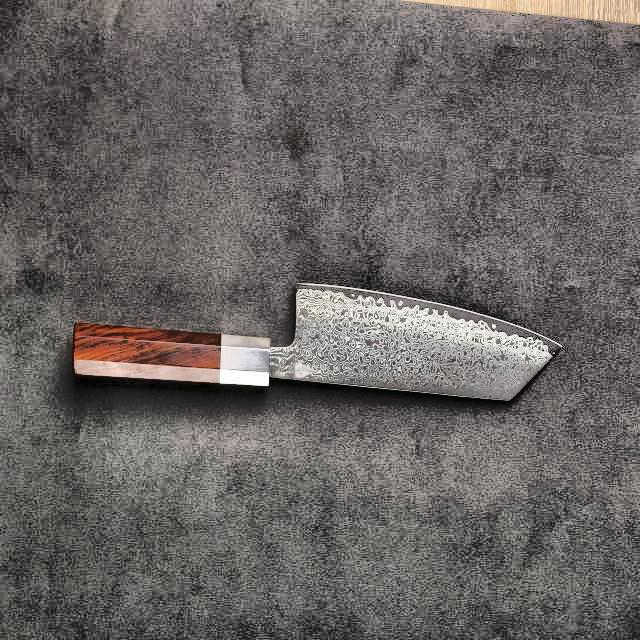knife: (61, 272, 564, 426)
